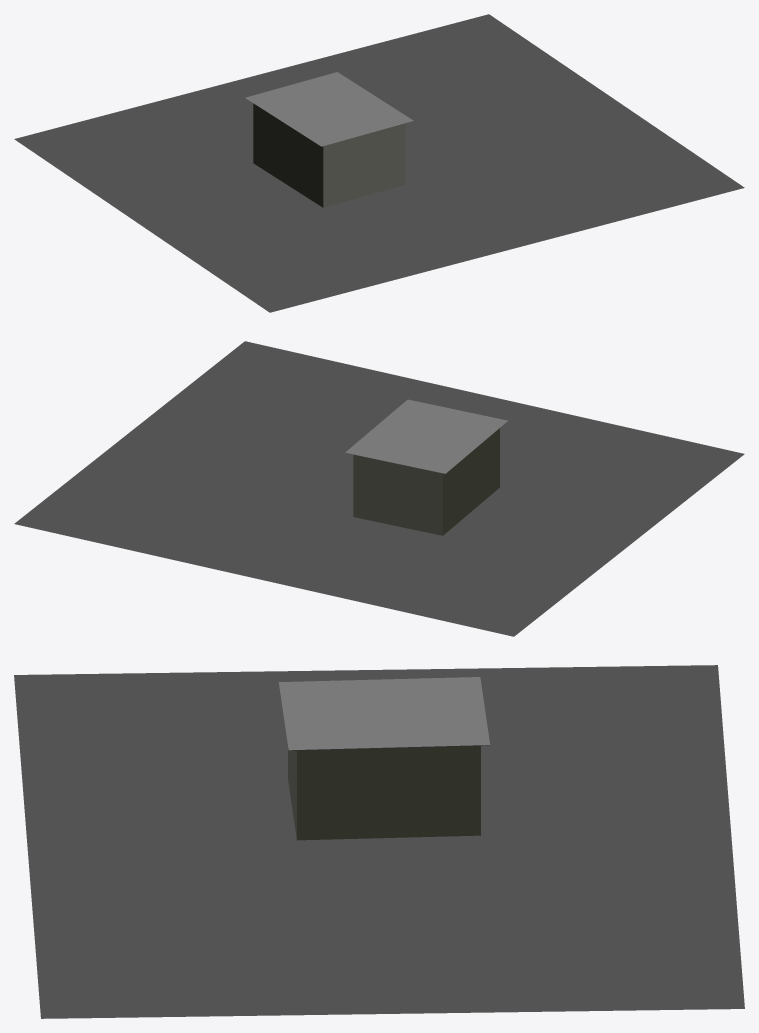
Rendered from market-court-chattanooga-tn.glb.
3 renders of one model, top to bottom at view 1: azimuth 30°, elevation 25°; view 2: azimuth 150°, elevation 25°; view 3: azimuth 270°, elevation 25°, orthographic. The views are drawn at different scales.
Parts seen in each view (by area): view 1: LOD0; view 2: LOD0; view 3: LOD0.
Boxes of the visible parts, x1,y1,x2,y2 form: LOD0: (14,14,744,312); LOD0: (14,341,744,636); LOD0: (14,665,744,1018).
Size of what is drawn, in the model's own units: 161 by 19.97 by 141.
2 materials, 2 textured.
